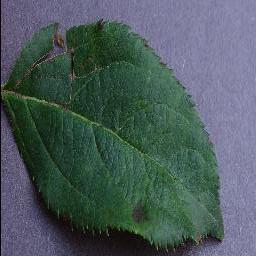apple healthy: (0, 17, 225, 252)
